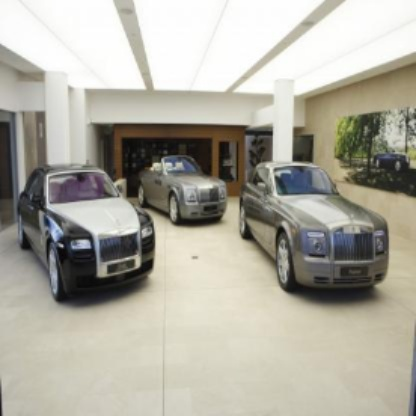Vehicle: (238, 159, 391, 294)
